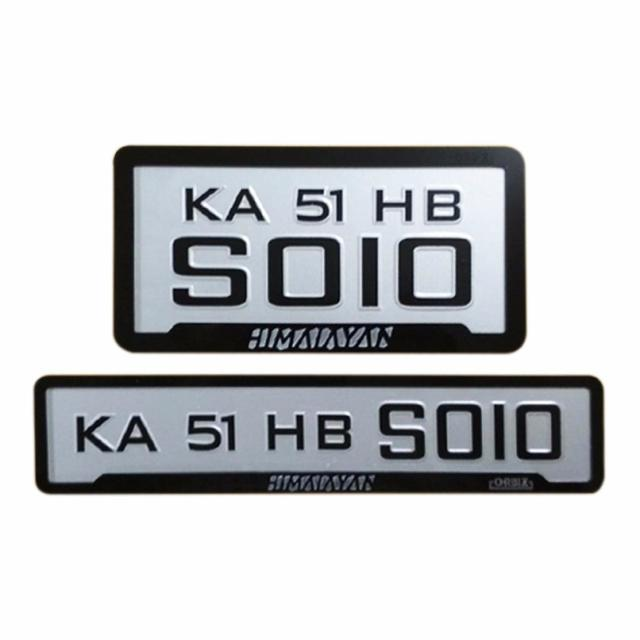plate: (126, 157, 514, 342), (40, 384, 598, 488)
